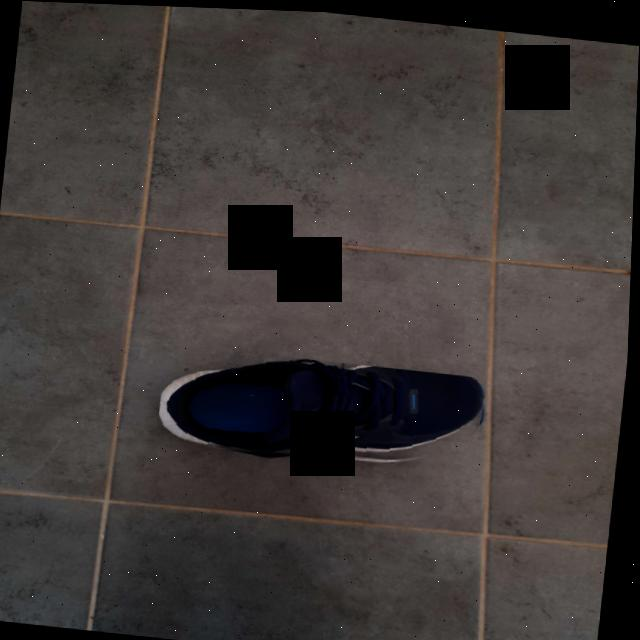shoe: (158, 342, 491, 476)
